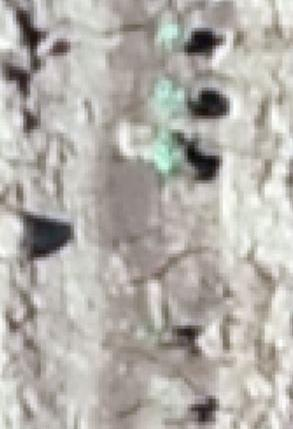cotton: (158, 80, 183, 109), (154, 145, 180, 171), (161, 131, 181, 153), (160, 24, 181, 42)
